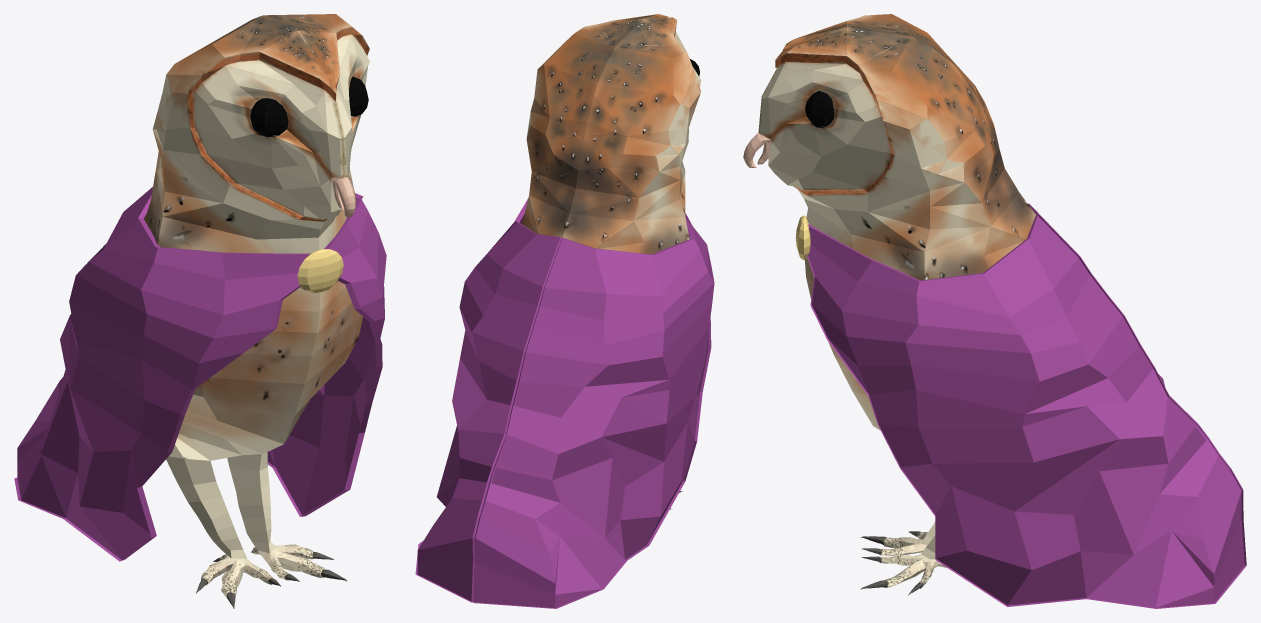
File: testeule2.fbx
3 renders of one model, left to right at view 1: azimuth 30°, elevation 25°; view 2: azimuth 150°, elevation 25°; view 3: azimuth 270°, elevation 25°, orthographic. The views are drawn at different scales.
Parts seen in each view (by area): view 1: Eule, Umhang; view 2: Umhang, Eule; view 3: Umhang, Eule.
Boxes of the visible parts, x1,y1,x2,y2 form: Eule: (144,14,369,608); Umhang: (14,187,386,561); Umhang: (415,198,714,608); Eule: (522,14,701,509); Umhang: (796,203,1246,608); Eule: (743,14,1035,595).
Size of the model in its own units: 177 by 377 by 318.
Materials: 2 (2 with a texture image).
